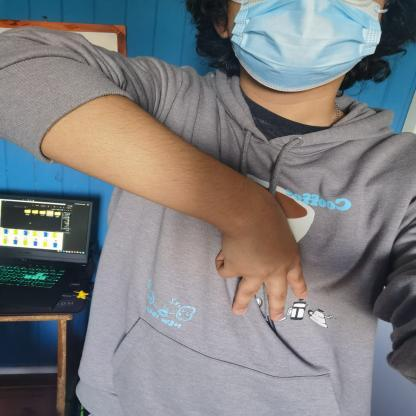M: (187, 200, 328, 324)
